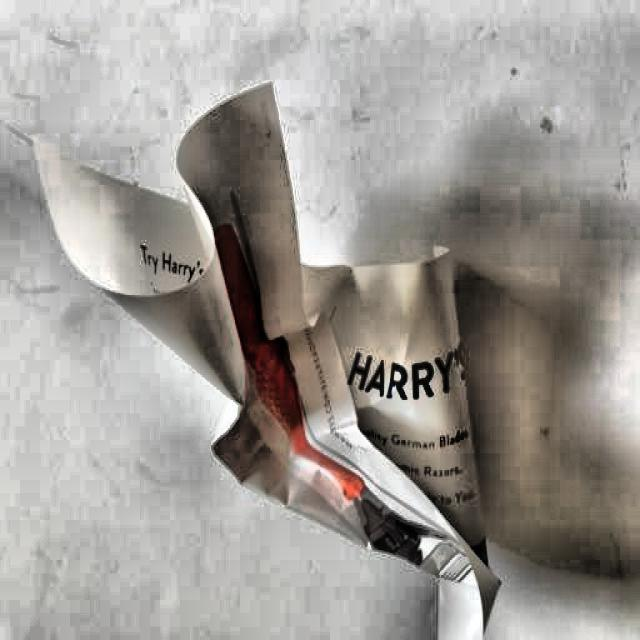paper: (0, 92, 507, 640)
